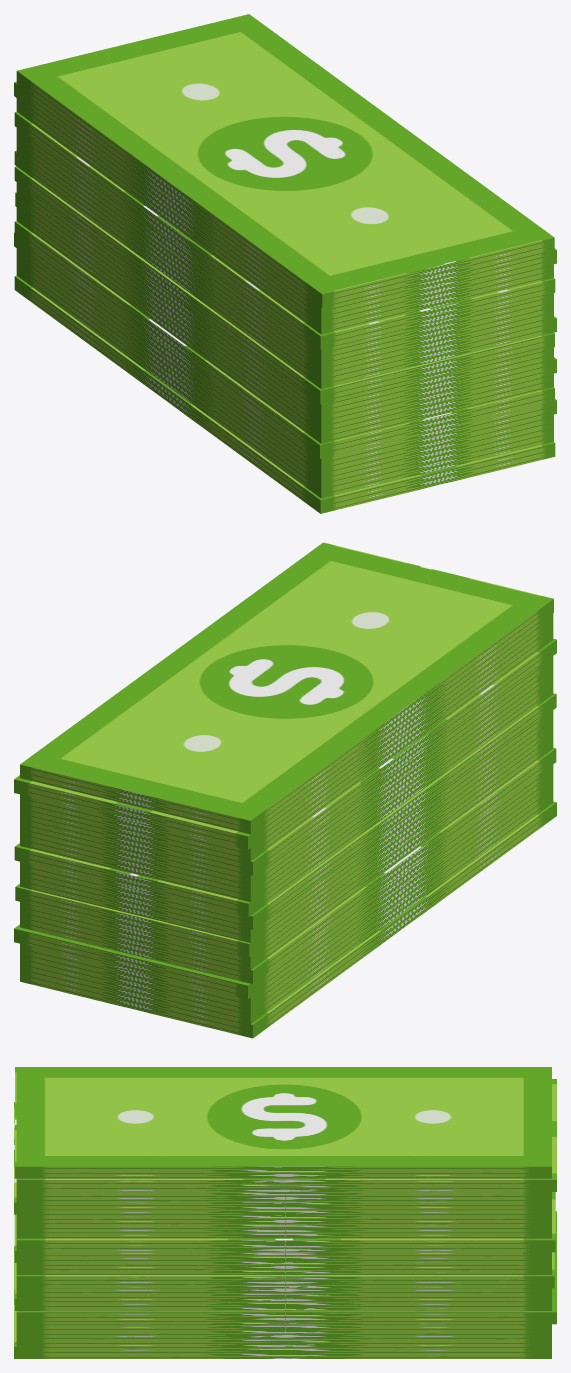
File: hummer_money_car.fbx
The picture shows the model from 3 angles, top to bottom: view 1: azimuth 30°, elevation 25°; view 2: azimuth 150°, elevation 25°; view 3: azimuth 270°, elevation 25°; orthographic projection. The views are drawn at different scales.
Visible parts, largest first — view 1: Box1042_s_001, Box1042_s_002, Box1042_s_003_s_002, Box1042_s_003_s_001; view 2: Box1042_s_003_s_002, Box1042_s_002, Box1042_s_001, Box1042_s_003_s_001; view 3: Box1042_s_003_s_002, Box1042_s_002, Box1042_s_001, Box1042_s_003_s_001.
Boxes of the visible parts, x1,y1,x2,y2 form: Box1042_s_001: [244, 182, 556, 513]; Box1042_s_002: [166, 125, 477, 457]; Box1042_s_003_s_002: [14, 14, 326, 346]; Box1042_s_003_s_001: [92, 71, 400, 400]; Box1042_s_003_s_002: [14, 708, 329, 1038]; Box1042_s_002: [170, 598, 480, 927]; Box1042_s_001: [248, 542, 556, 871]; Box1042_s_003_s_001: [97, 654, 403, 981]; Box1042_s_003_s_002: [415, 1067, 556, 1358]; Box1042_s_002: [148, 1067, 285, 1358]; Box1042_s_001: [14, 1067, 148, 1358]; Box1042_s_003_s_001: [285, 1067, 415, 1358].
Size of the model in its own units: 205 by 180 by 462.
